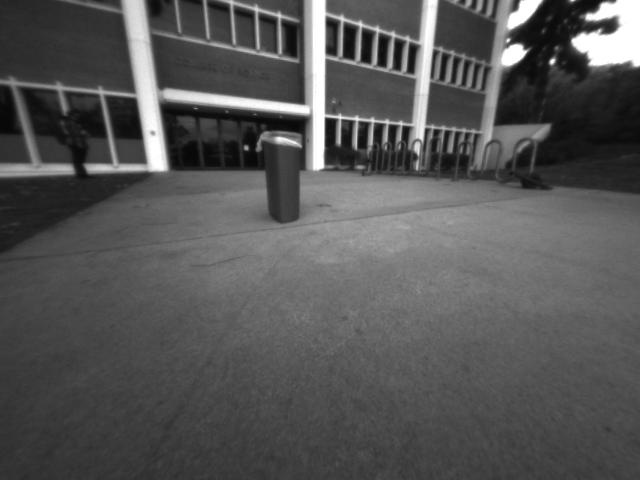trashcan_open: (254, 127, 308, 227)
